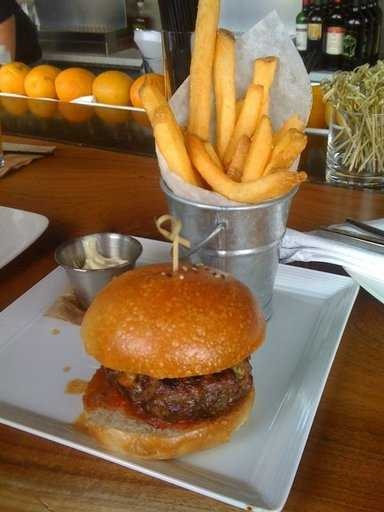hamburger: (39, 234, 260, 485)
